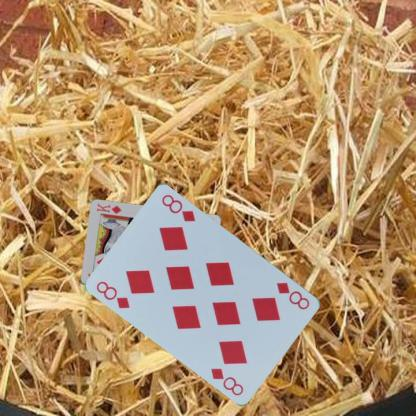8d: (274, 279, 311, 311), (94, 278, 131, 310)
